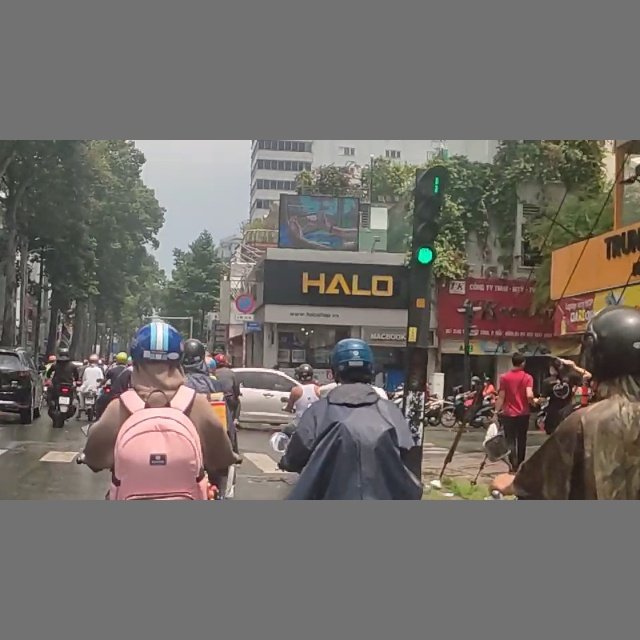P.131a: (234, 293, 255, 314)
